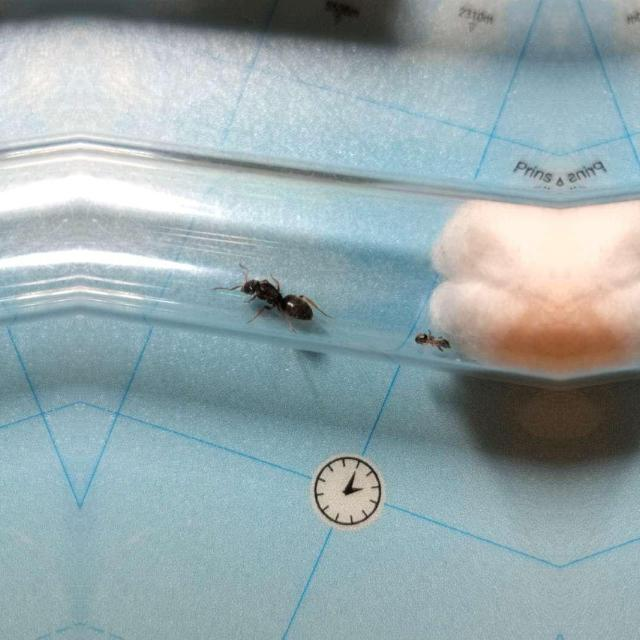Lasius: (222, 258, 322, 326), (407, 324, 451, 356)
